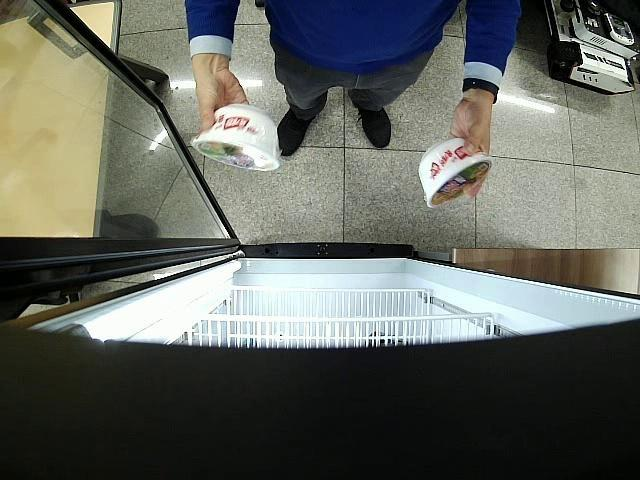09_yukGaeJang: (192, 104, 280, 170), (419, 138, 491, 208)
